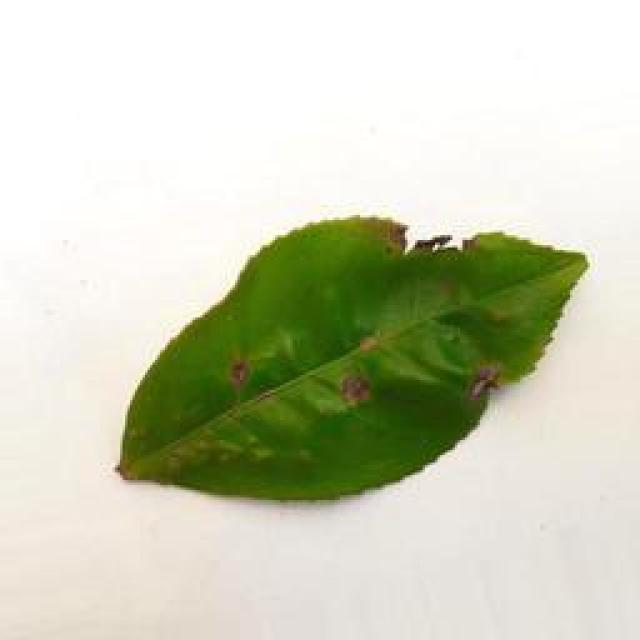Helopeltis: (112, 201, 593, 524)
